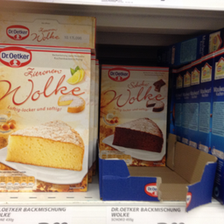cake: (1, 46, 92, 193), (100, 64, 169, 168)
